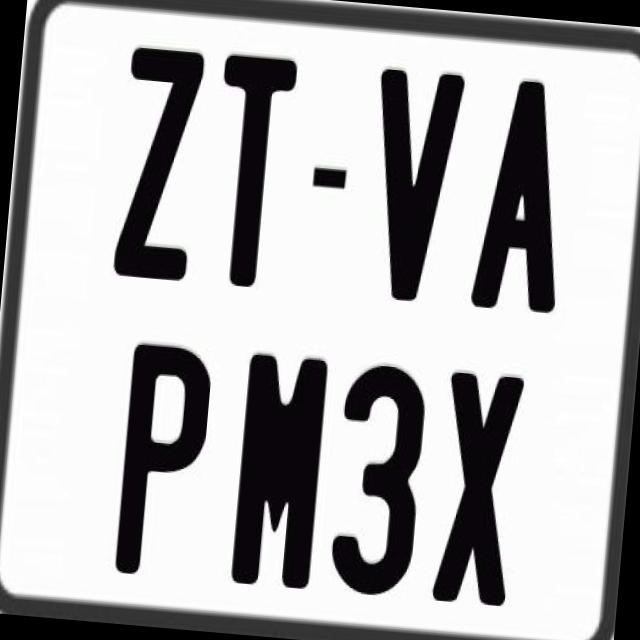3: (326, 362, 434, 604)
A: (469, 74, 582, 316)
M: (226, 348, 326, 588)
P: (110, 342, 217, 581)
T: (202, 48, 300, 289)
V: (360, 66, 465, 312)
X: (429, 368, 528, 606)
Z: (111, 44, 203, 284)
